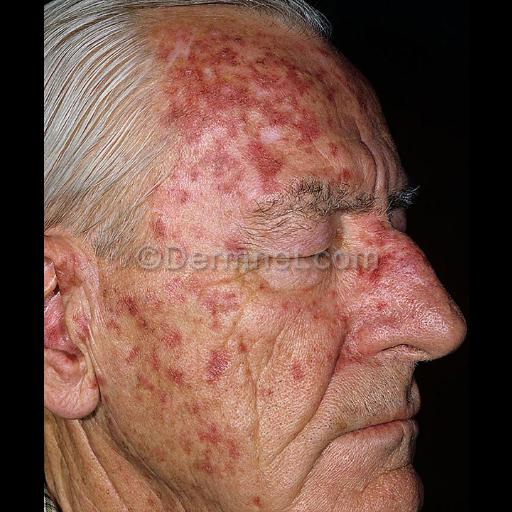Skin_Lesion: (248, 42, 312, 124), (350, 248, 402, 312), (198, 26, 238, 104), (166, 138, 196, 214), (249, 132, 287, 190), (322, 342, 362, 378), (200, 128, 230, 174), (219, 268, 241, 326), (169, 48, 197, 92), (299, 130, 331, 164), (247, 265, 273, 305), (204, 269, 222, 323), (194, 444, 222, 478), (204, 348, 226, 384), (150, 208, 168, 246), (120, 288, 138, 322), (176, 420, 194, 454), (202, 418, 222, 444), (288, 357, 306, 385), (166, 364, 184, 388), (136, 366, 150, 392), (318, 89, 336, 109), (249, 488, 263, 512), (350, 499, 373, 512), (124, 344, 140, 362), (172, 323, 182, 347), (149, 350, 161, 368), (236, 338, 246, 356)
